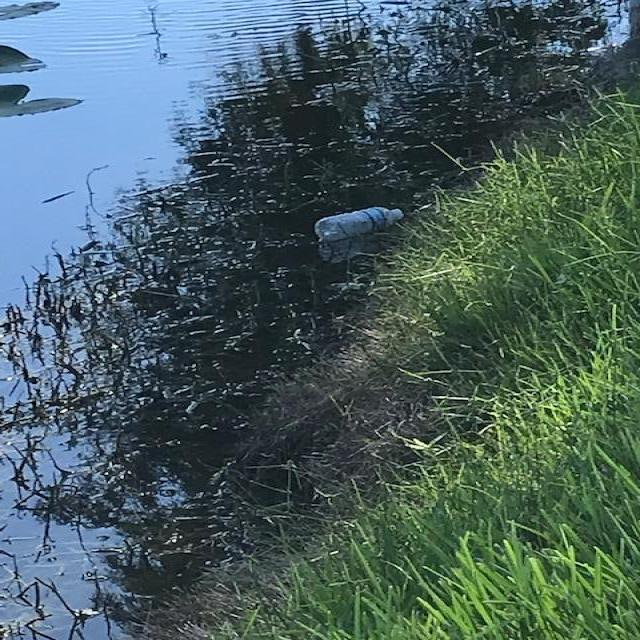litter: (308, 199, 415, 241)
